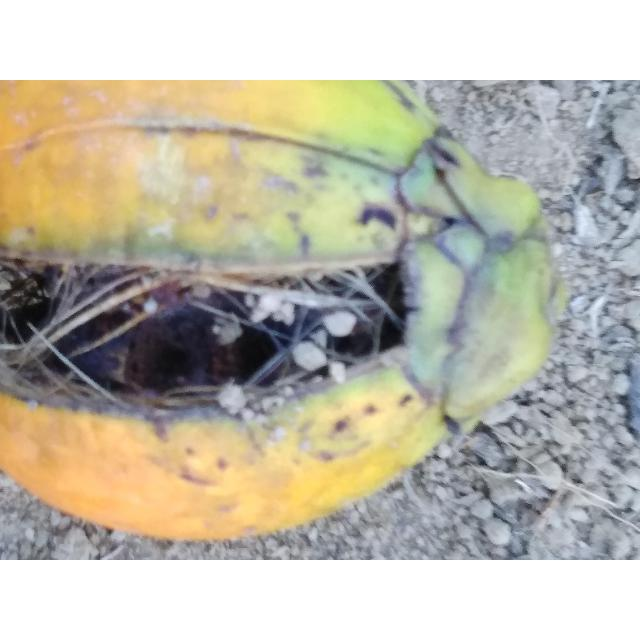damaged: (0, 80, 565, 540)
